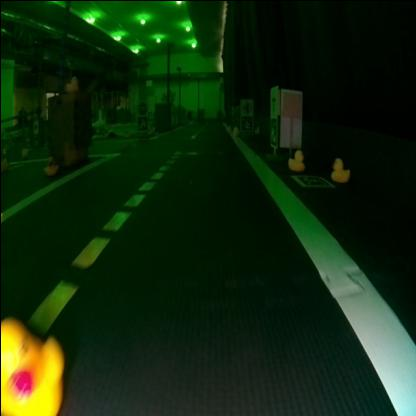Duckie: (1, 315, 63, 414), (330, 156, 348, 181), (287, 148, 303, 169), (42, 155, 56, 173), (64, 74, 76, 86)
Intersection sign: (270, 91, 275, 113), (242, 99, 250, 112)
QR code: (290, 174, 322, 188), (268, 117, 274, 144), (240, 114, 251, 128), (136, 116, 145, 128)
Stop sign: (136, 100, 146, 112)
